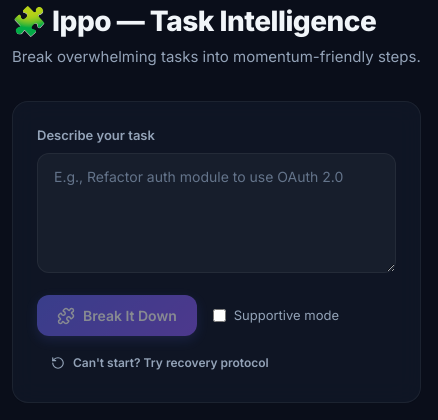
it: IppoTasks › enables submit when task is entered
In the text box labelled "Describe your task": (216, 213) [37,153,396,273], type "Refactor auth"
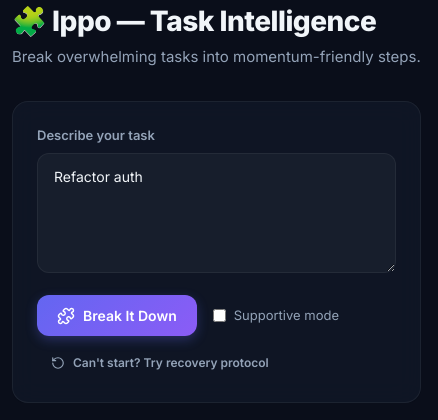
Check: the button "Break It Down" is enabled, box [37,295,197,336]
